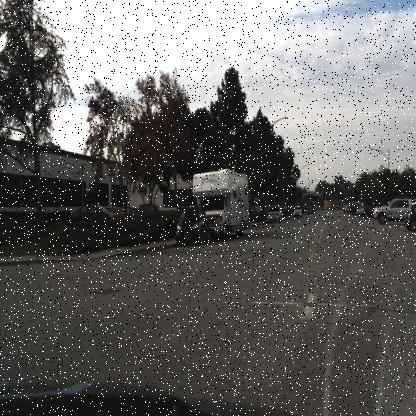car: (190, 167, 250, 240), (173, 204, 211, 247), (66, 202, 118, 230), (177, 203, 207, 247), (374, 196, 416, 227), (68, 203, 117, 227), (264, 202, 285, 225), (292, 204, 304, 220)
truck: (196, 169, 251, 231)
